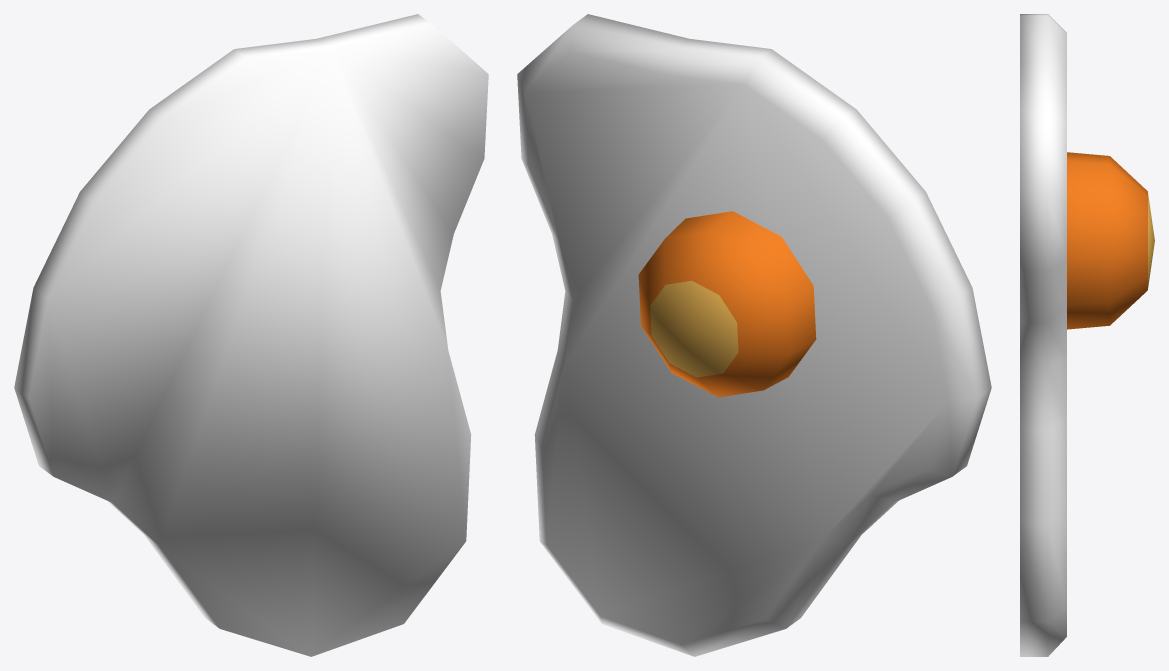
The model's file is egg.glb.
3 renders of one model, left to right at view 1: azimuth 30°, elevation 25°; view 2: azimuth 150°, elevation 25°; view 3: azimuth 270°, elevation 25°, orthographic. The views are drawn at different scales.
Parts seen in each view (by area): view 1: egg; view 2: egg; view 3: egg.
Part boxes in pixels (x1,y1,x2,y2): egg: (14,14,488,656); egg: (517,14,991,656); egg: (1020,14,1154,656).
Size of the model in its own units: 10.93 by 13.91 by 2.94.
1 material, 1 textured.
